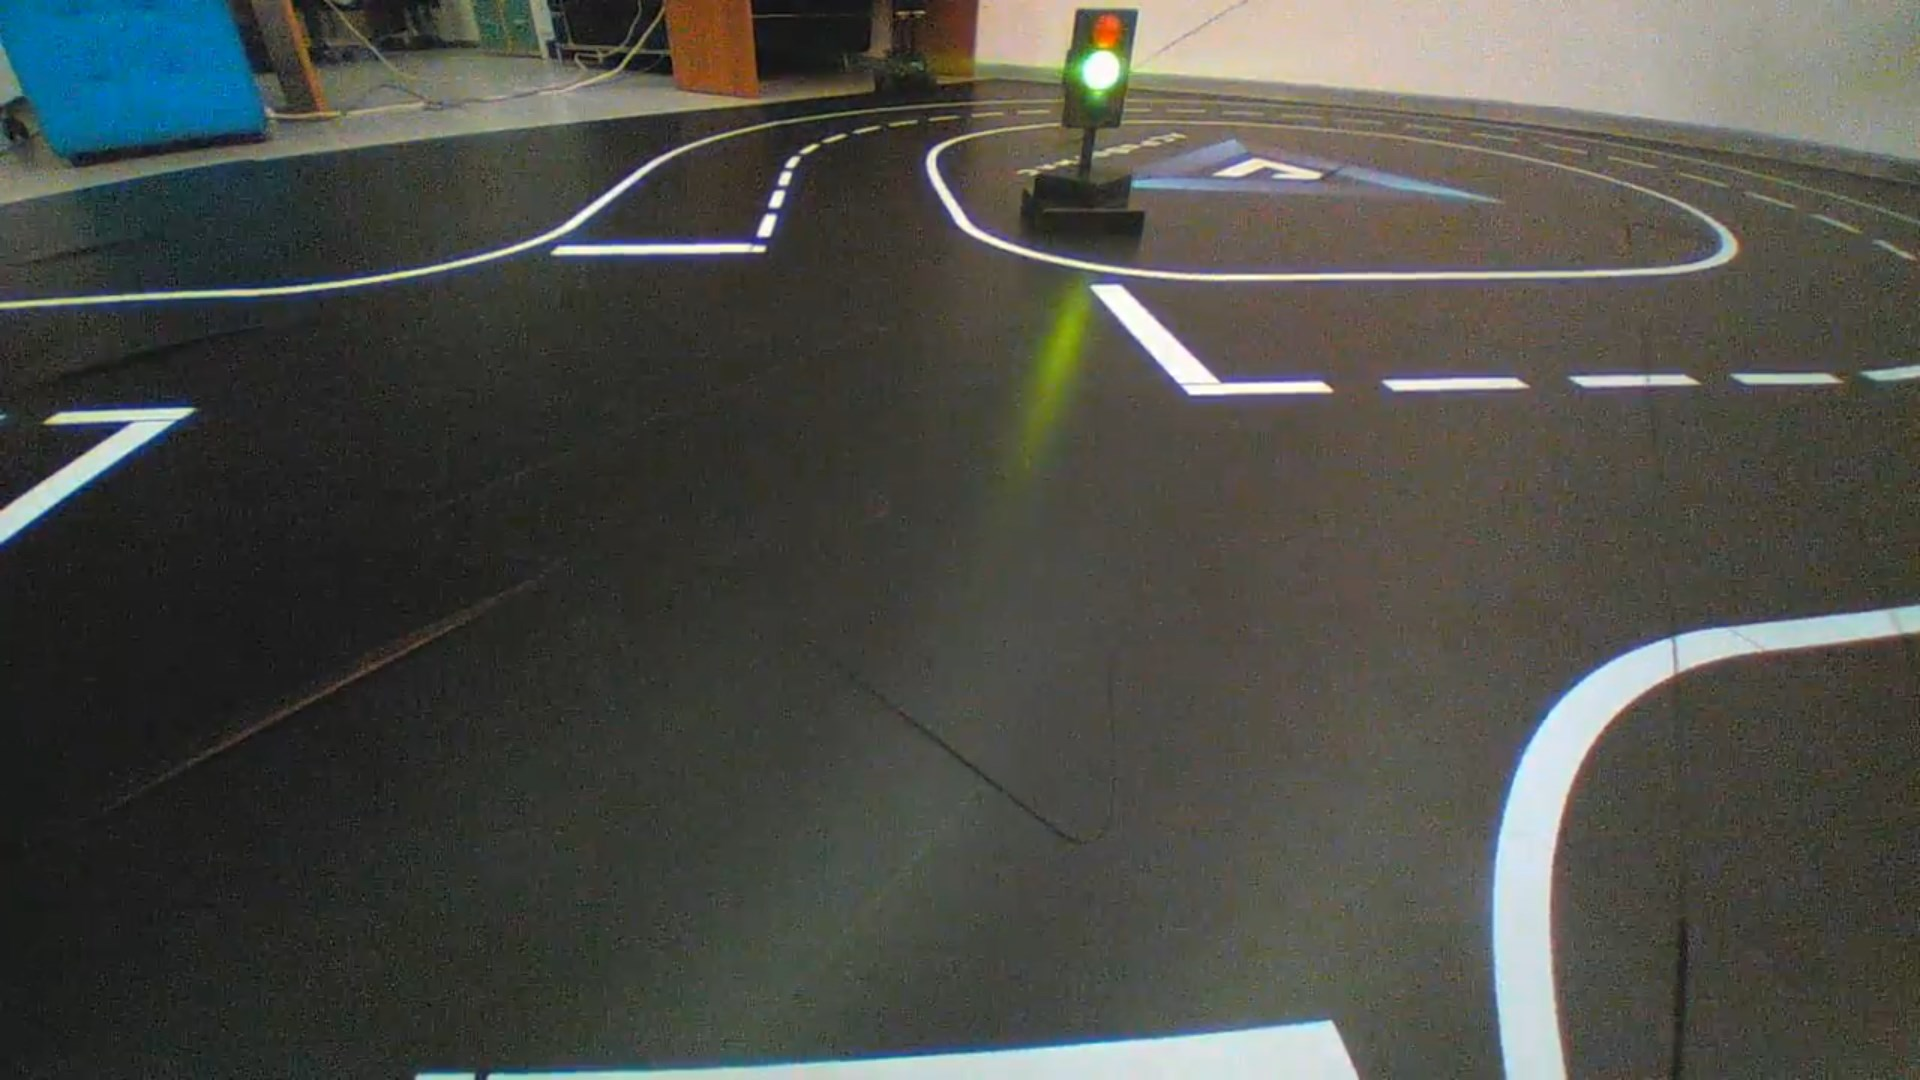trafficlight: (1060, 7, 1138, 131)
